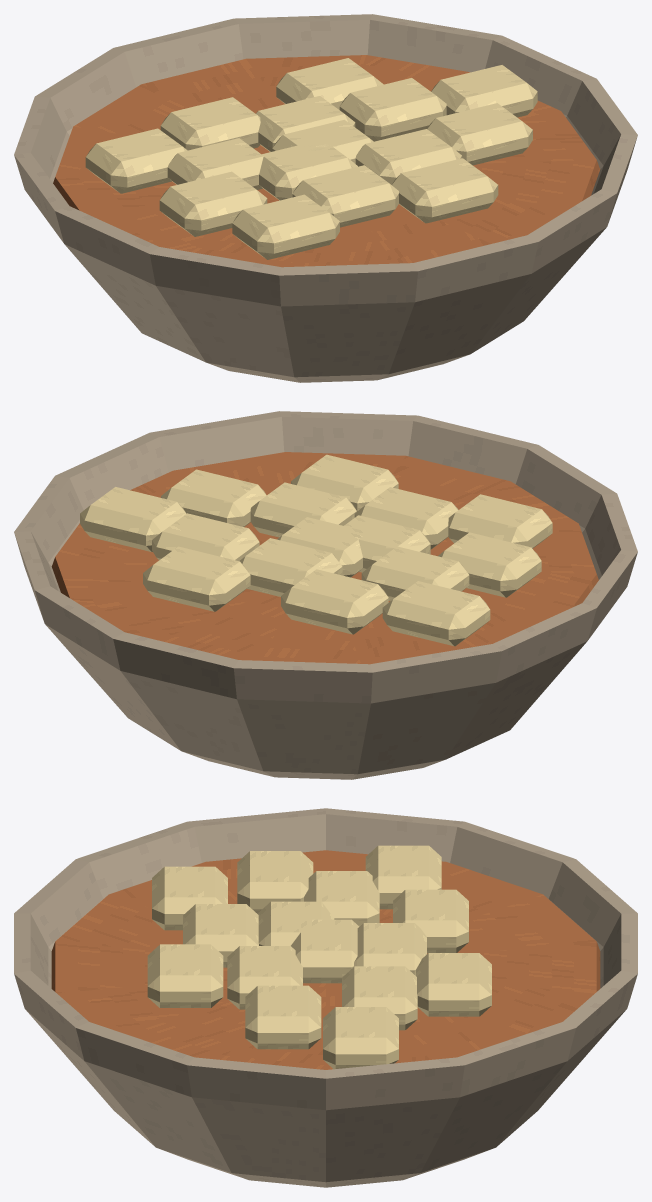
Rendered from ravioli.glb.
3 renders of one model, top to bottom at view 1: azimuth 30°, elevation 25°; view 2: azimuth 150°, elevation 25°; view 3: azimuth 270°, elevation 25°, orthographic. The views are drawn at different scales.
Visible parts, largest first — view 1: block_earthenware bowl, block_square pasta pocket (×15), block_meal in bowl; view 2: block_earthenware bowl, block_square pasta pocket (×15), block_meal in bowl; view 3: block_earthenware bowl, block_square pasta pocket (×15), block_meal in bowl.
Boxes of the visible parts, box(x1,y1,x2,y2) form: block_earthenware bowl: box(14, 14, 637, 382); block_square pasta pocket (×15): box(85, 58, 537, 259); block_meal in bowl: box(53, 55, 600, 267); block_earthenware bowl: box(14, 411, 637, 779); block_square pasta pocket (×15): box(80, 454, 552, 646); block_meal in bowl: box(51, 452, 598, 664); block_earthenware bowl: box(14, 808, 637, 1187); block_square pasta pocket (×15): box(147, 845, 491, 1069); block_meal in bowl: box(51, 850, 600, 1069).
Size of the model in its own units: 0.1203 by 0.0369 by 0.1173.
Materials: 1 (1 with a texture image).
